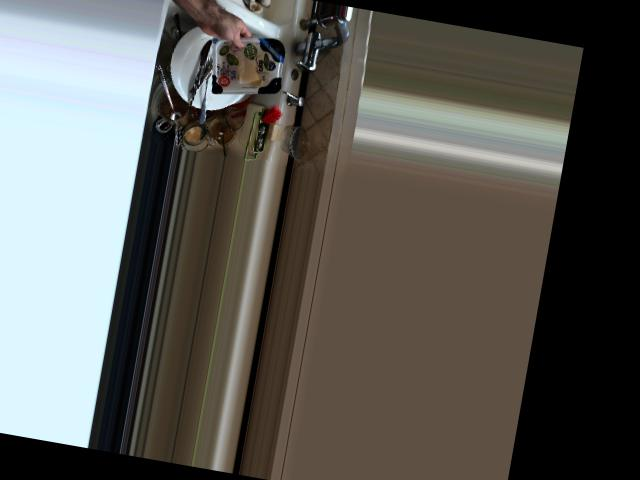cheese: (193, 8, 297, 103)
